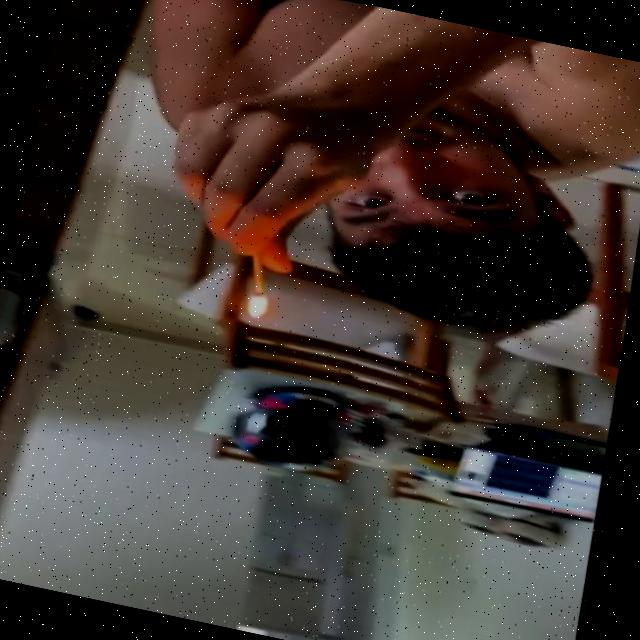fire: (247, 289, 276, 319)
